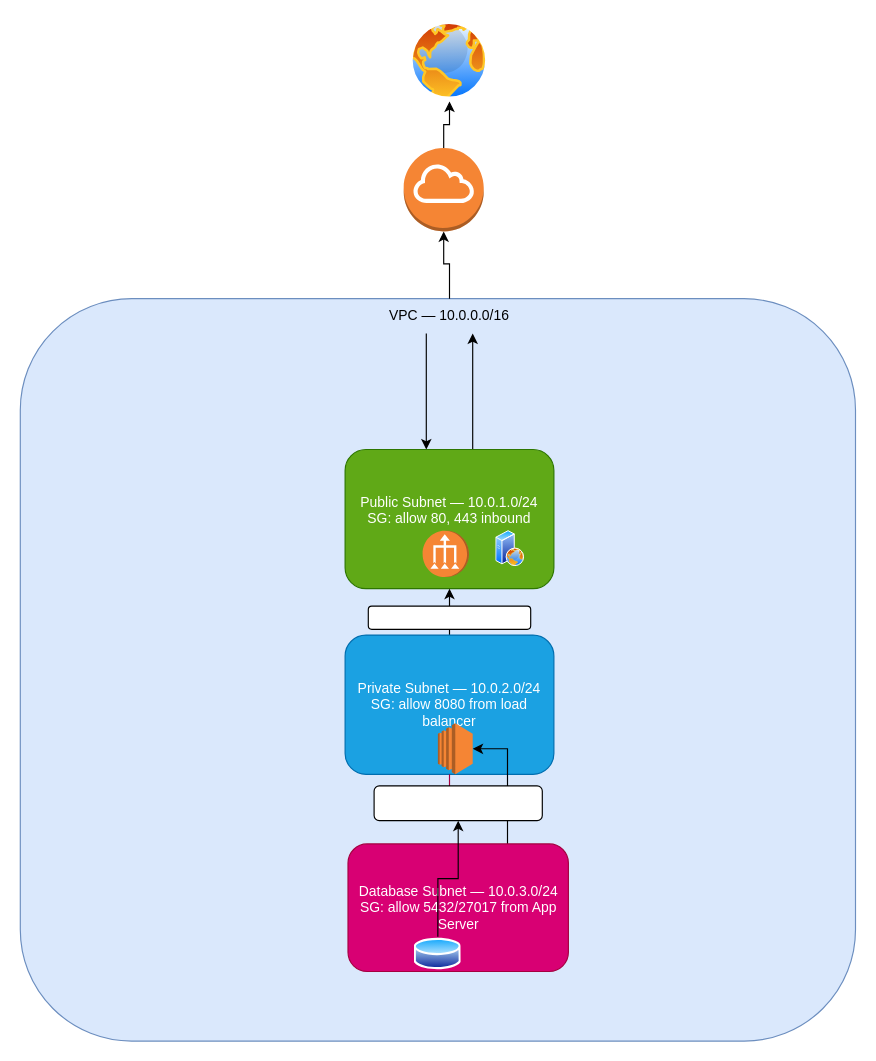
This 876x1061 diagram has some shape labels left out. The shapes that lost their labels are listed below. From the top down, each one's centre as x and y in pixels, then its label:
the point at 449,617: NACL: Private boundary
the point at 457,803: NACL: Database boundary
